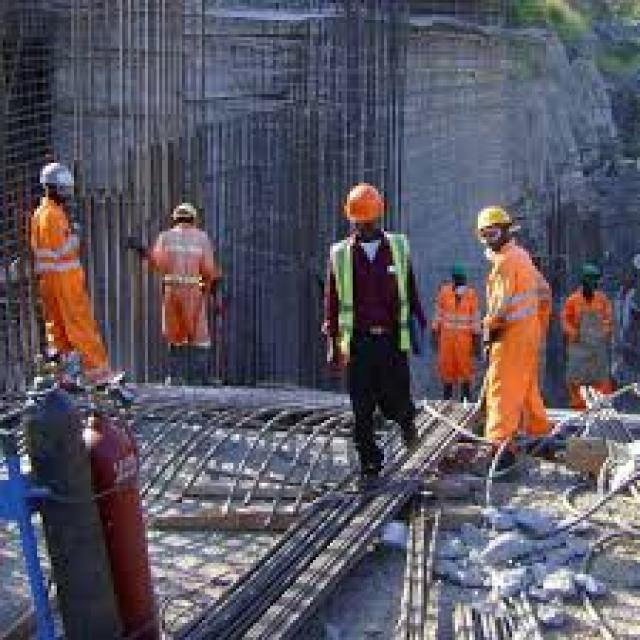Reflective-Jacket: (321, 228, 424, 366), (22, 197, 96, 354), (478, 243, 557, 371), (151, 228, 219, 306), (429, 280, 484, 369)
Safety-Helmet: (333, 174, 392, 229), (464, 197, 523, 240), (31, 157, 80, 200), (574, 257, 606, 292), (168, 197, 202, 226), (444, 257, 475, 286)
